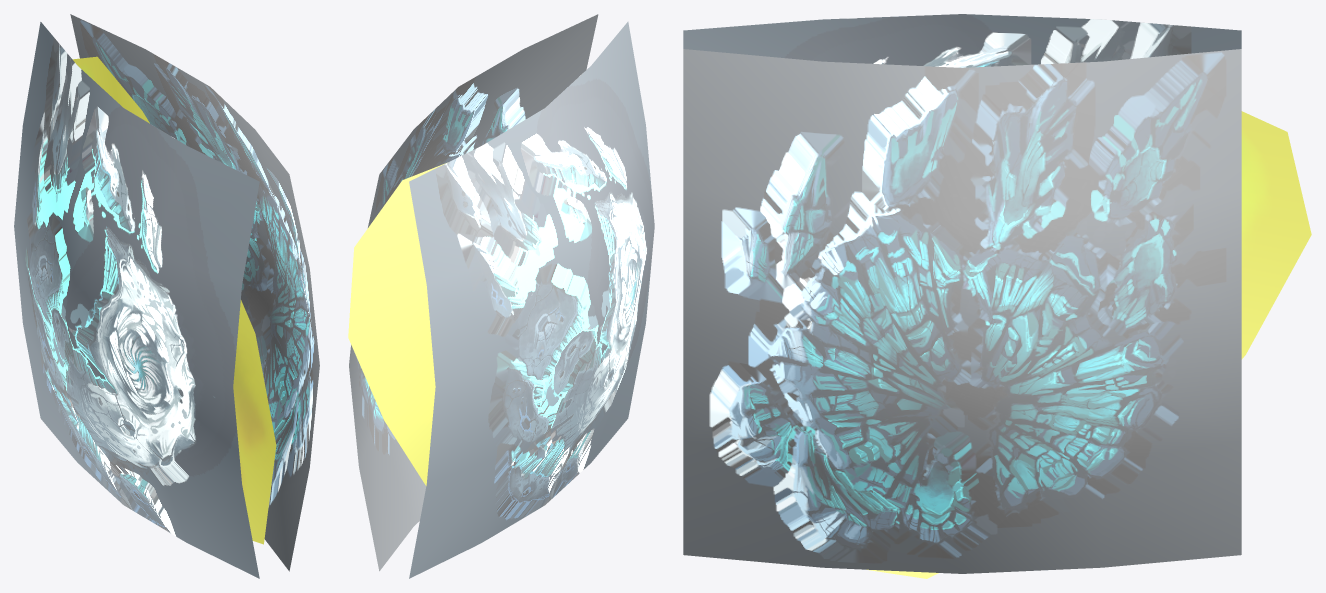
The model's file is SM_Fractured_moon.fbx.
3 views of the same model, side by side, from view 1: azimuth 30°, elevation 25°; view 2: azimuth 150°, elevation 25°; view 3: azimuth 270°, elevation 25° (orthographic). The views are drawn at different scales.
Parts seen in each view (by area): view 1: SM_Fractured_moon_LOD0; view 2: SM_Fractured_moon_LOD0; view 3: SM_Fractured_moon_LOD0.
Part boxes in pixels (x1,y1,x2,y2): SM_Fractured_moon_LOD0: [14, 14, 319, 578]; SM_Fractured_moon_LOD0: [348, 14, 654, 578]; SM_Fractured_moon_LOD0: [683, 14, 1311, 578].
Size of the model in its own units: 10937 by 22507 by 20961.
